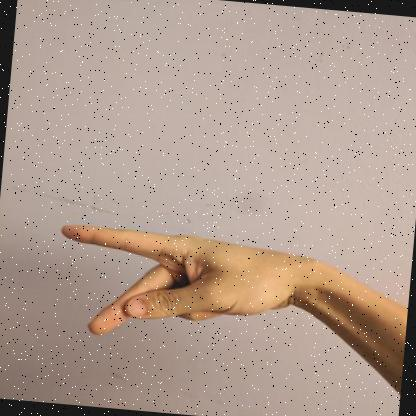P: (61, 225, 304, 335)
